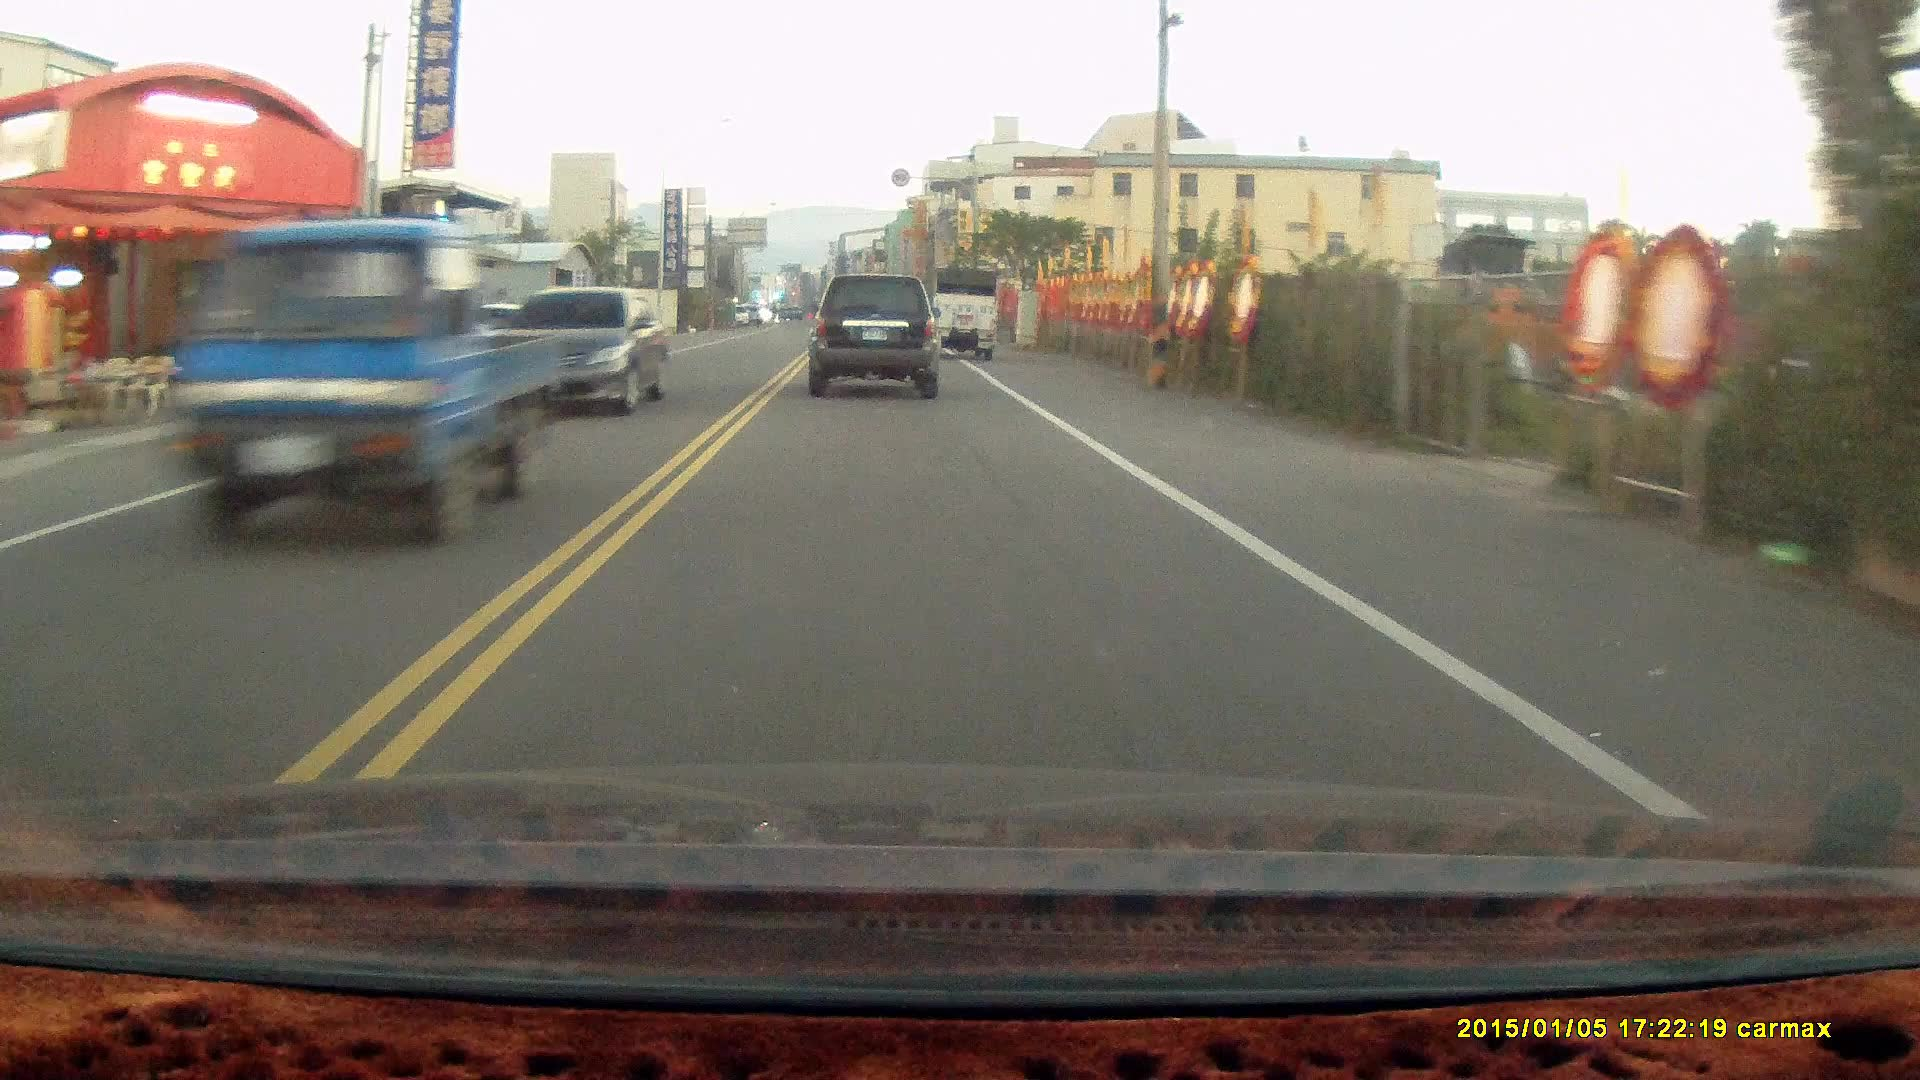vehicle: (154, 215, 570, 543), (505, 284, 669, 418), (804, 269, 942, 398), (930, 262, 1004, 357)
